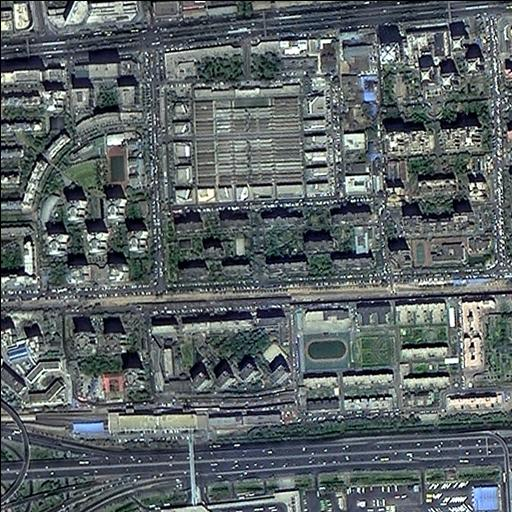school: (295, 303, 353, 372), (107, 125, 152, 198), (408, 232, 465, 269)
